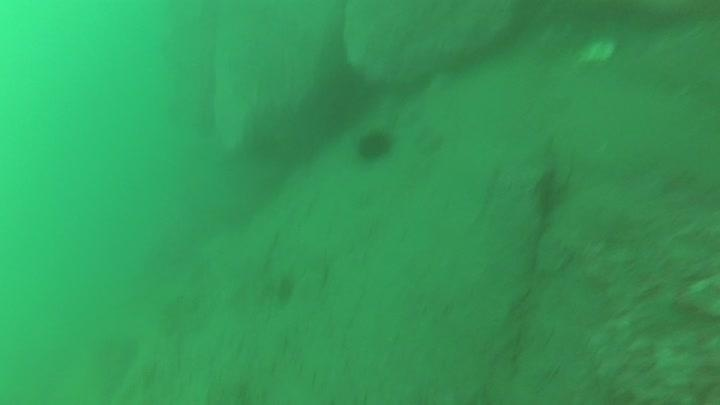echinus: (353, 126, 396, 166)
